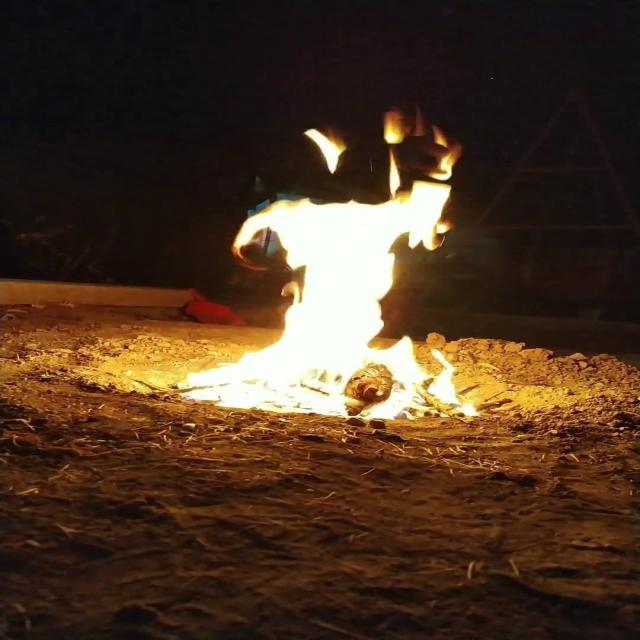Fire: (176, 98, 482, 418)
